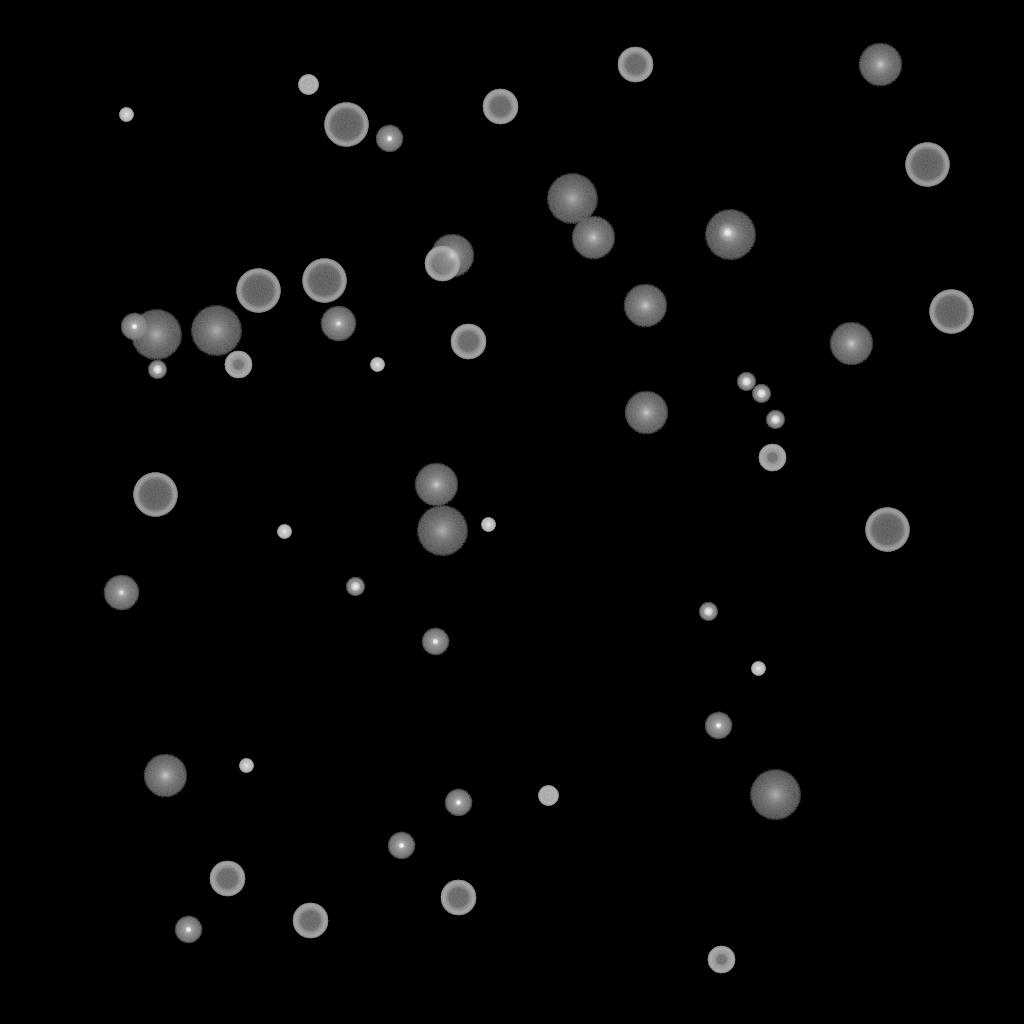depth:-10: (375, 125, 403, 153), (421, 628, 449, 656), (174, 916, 202, 944), (387, 832, 415, 860), (120, 313, 148, 341), (444, 789, 472, 817), (704, 712, 732, 740)
depth:-20: (766, 411, 784, 429), (346, 578, 364, 596), (718, 224, 736, 242), (148, 361, 166, 379), (737, 373, 755, 391), (752, 385, 770, 403), (699, 603, 717, 621)
depth:-30: (481, 518, 495, 532), (119, 108, 133, 122), (370, 358, 384, 372), (277, 525, 291, 539), (239, 759, 253, 773), (751, 662, 765, 676)
depth:-40: (538, 786, 558, 806), (298, 75, 318, 95)
depth:-50: (707, 946, 735, 974), (758, 444, 786, 472), (224, 351, 252, 379)
depth:-60: (482, 89, 518, 125), (209, 861, 245, 897), (440, 880, 476, 916), (292, 903, 328, 939), (450, 324, 486, 360), (424, 246, 460, 282), (617, 47, 653, 83)
depth:-70: (905, 143, 949, 187), (324, 103, 368, 147), (133, 473, 177, 517), (236, 269, 280, 313), (865, 508, 909, 552), (929, 290, 973, 334), (302, 259, 346, 303)
depth:0: (320, 306, 356, 342), (103, 575, 139, 611)
depth:10: (623, 284, 667, 328), (829, 322, 873, 366), (624, 391, 668, 435), (430, 234, 474, 278), (571, 216, 615, 260), (143, 754, 187, 798), (414, 463, 458, 507), (858, 43, 902, 87)
depth:20: (704, 210, 756, 260), (546, 174, 598, 224), (130, 310, 182, 360), (416, 506, 468, 556), (749, 770, 801, 820), (190, 306, 242, 356)
